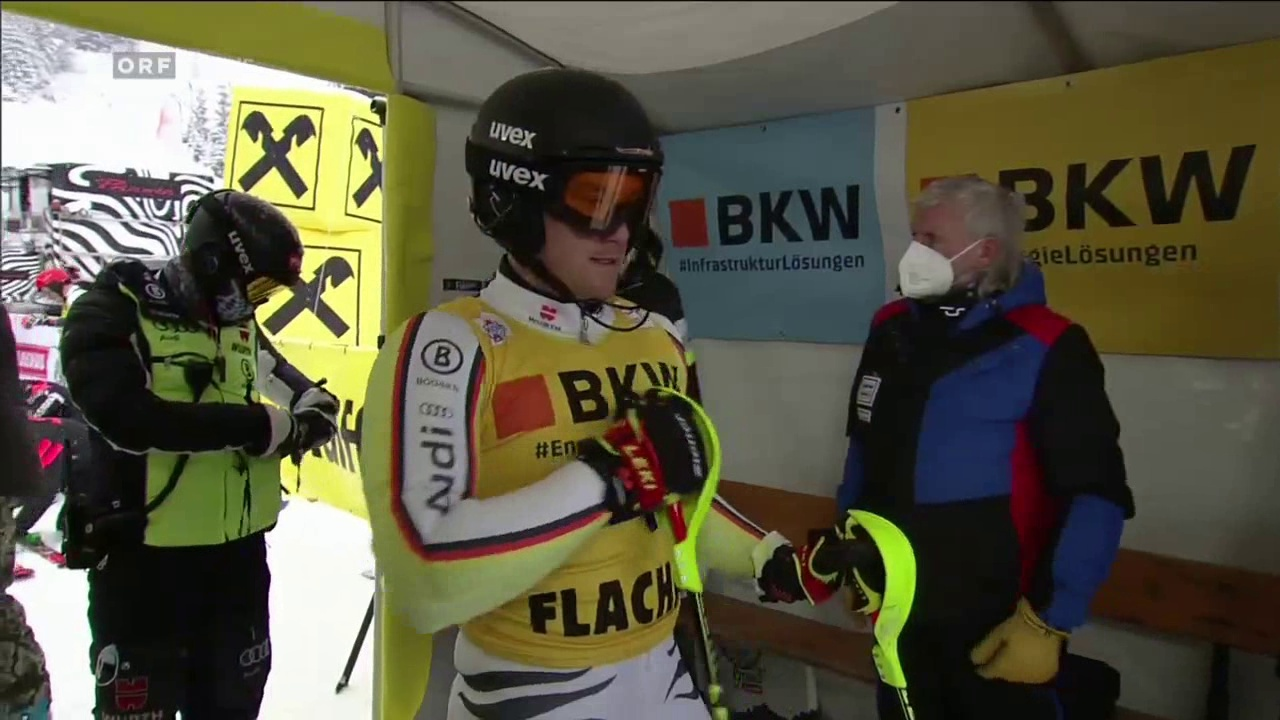BKW: (676, 184, 861, 259)
audi: (236, 642, 272, 676)
kronenzeitung: (14, 348, 52, 382)
raiffeisen: (234, 99, 330, 214), (258, 248, 366, 346), (343, 120, 392, 229)
